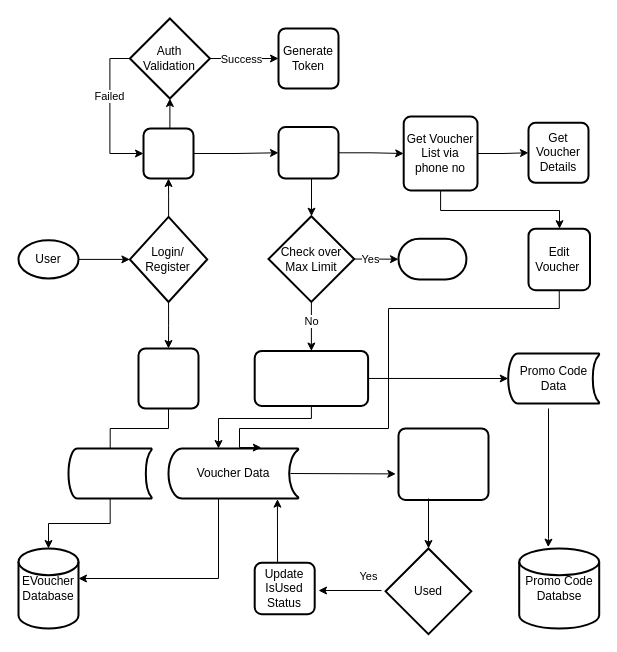
Image size: 617x652. Some labels were removed from this diagram. The box of each missing label's shape, as (x1, y1, x2, y2) in pixels:
Create Voucher: (277, 126, 339, 179)
Generate Promo Code and store data: (253, 350, 369, 406)
Login: (142, 127, 194, 179)
Message: (397, 237, 467, 280)
Purchase Item With Promo Code: (397, 427, 489, 500)
Register: (137, 347, 199, 409)
User Data: (67, 447, 152, 499)
